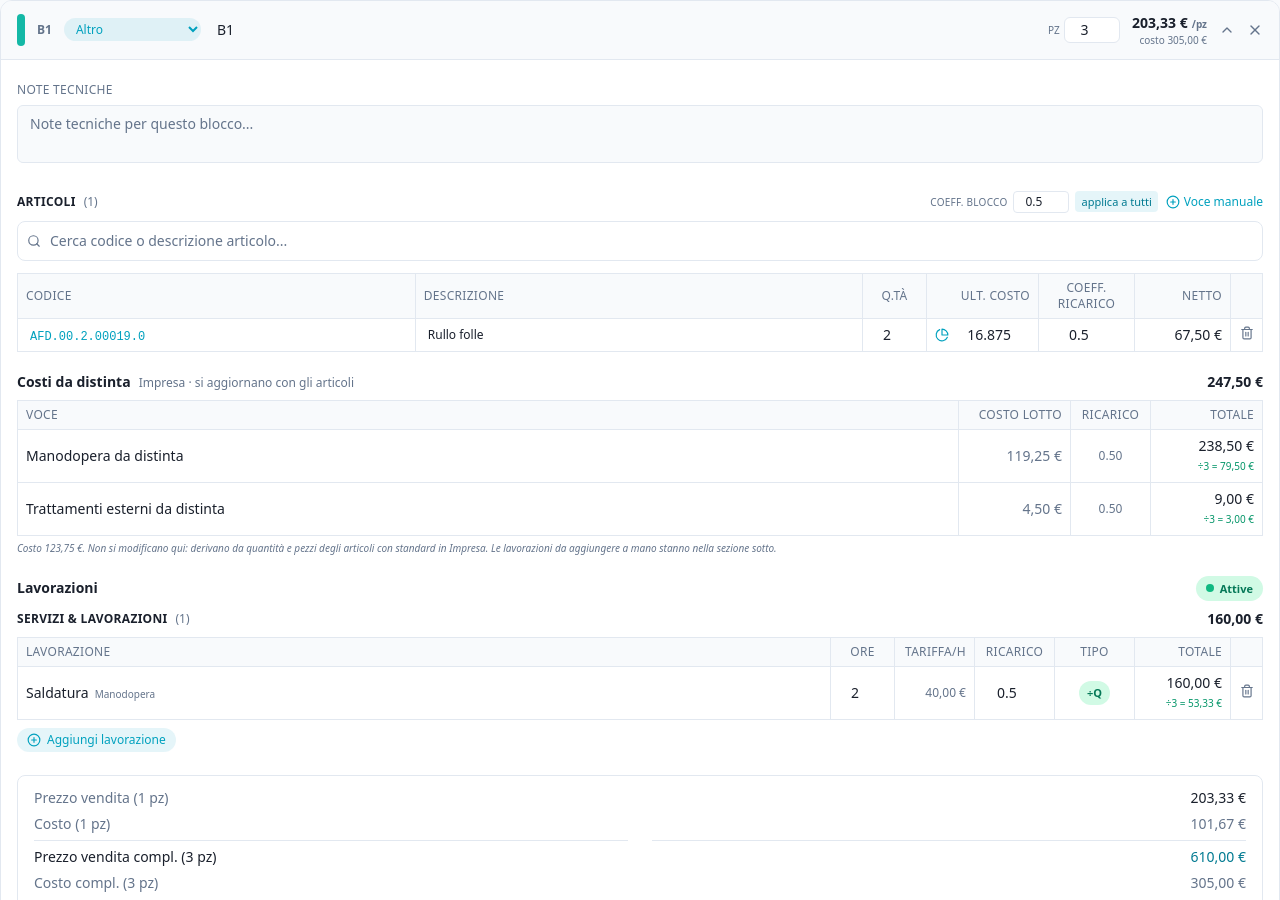
Scenario: render BloccoCard con split › mostra la composizione solo al passaggio del mouse sull'icona dell'articolo
This screenshot has width=1280, height=900.
Hover over the button named "Composizione del costo dell'articolo" at (942, 335), box x1=935 y1=328 x2=949 y2=342
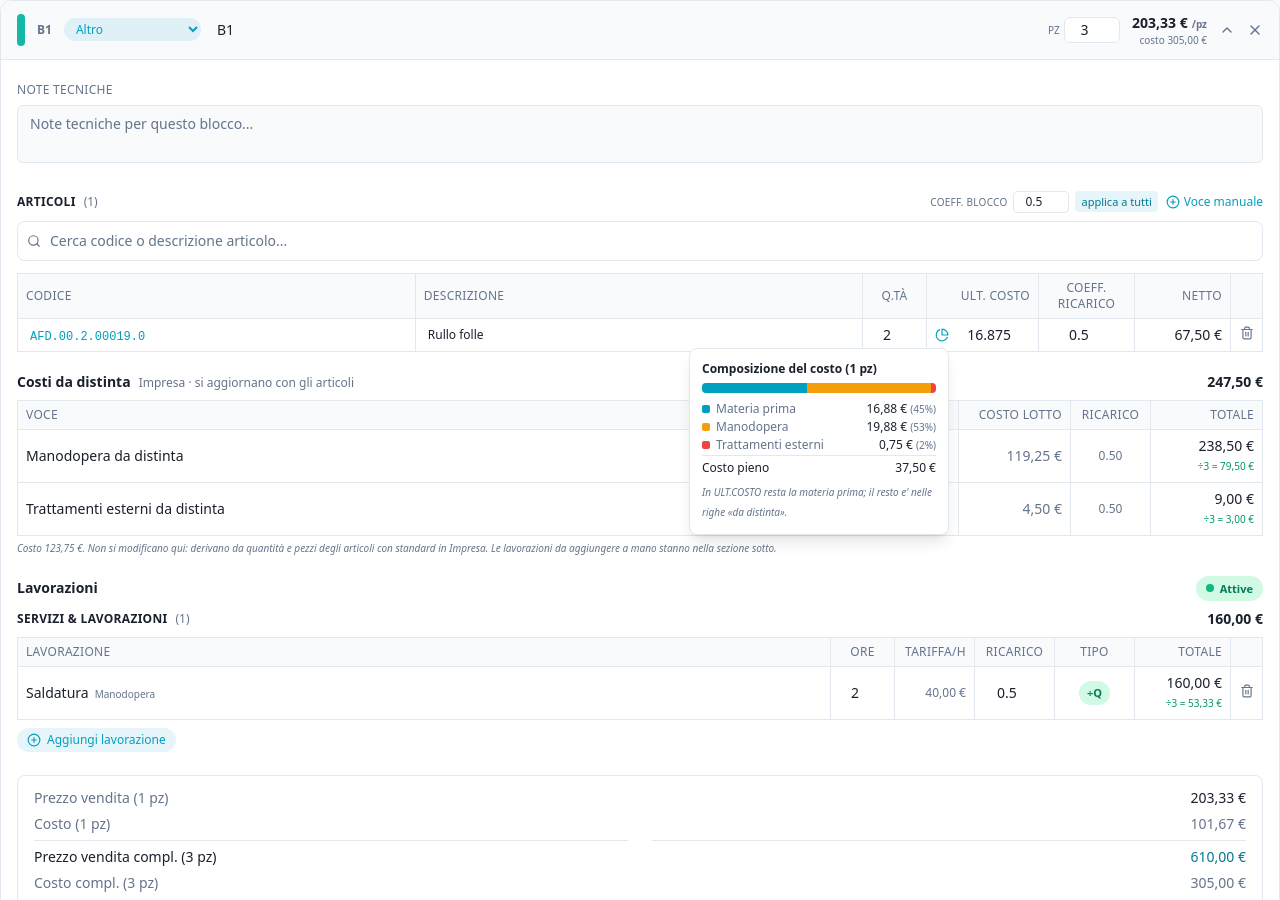
Result: the tooltip shows "Materia prima" at x1=716 y1=400 x2=796 y2=417
Result: the tooltip shows "Manodopera" at x1=716 y1=418 x2=788 y2=435
Result: the tooltip shows "Trattamenti esterni" at x1=716 y1=436 x2=824 y2=453
Move the pointer off the button named "Composizione del costo dell'articolo", box x1=935 y1=328 x2=949 y2=342
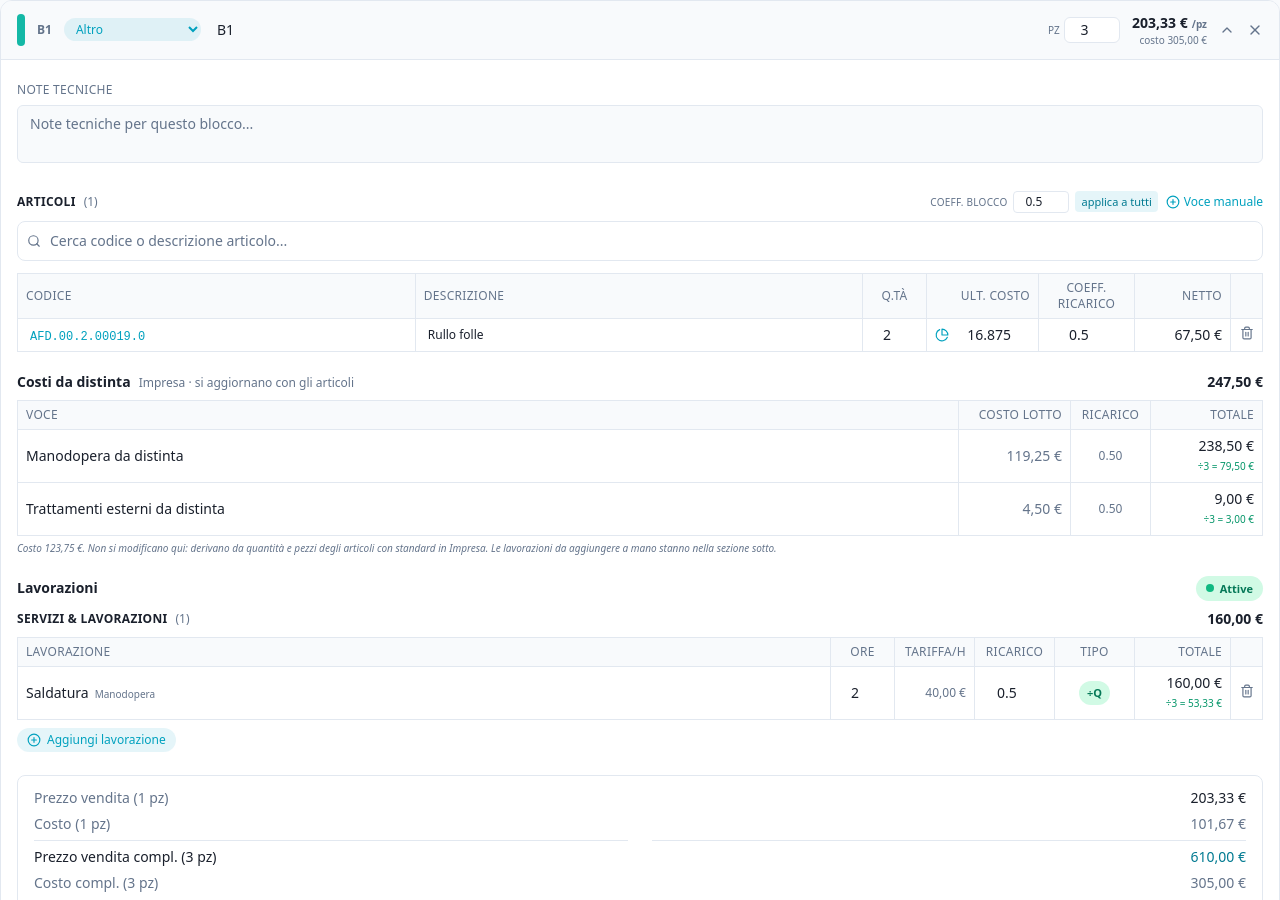
Result: the tooltip is gone
